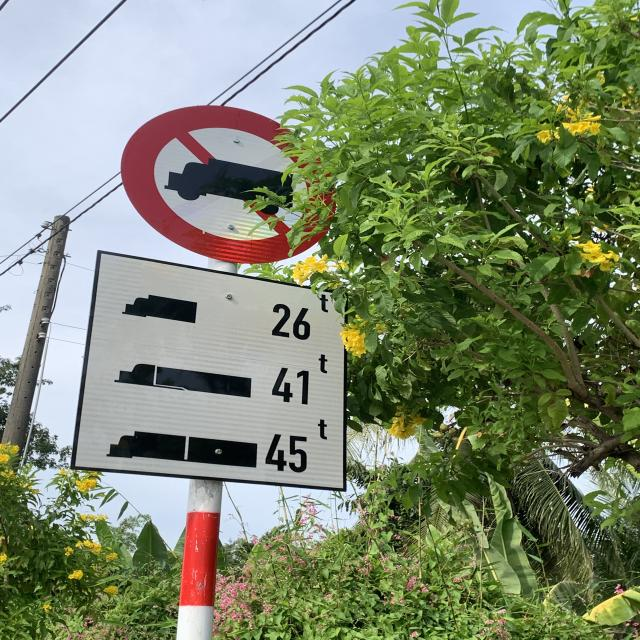Cam_Xe_Tai: (121, 101, 348, 267)
